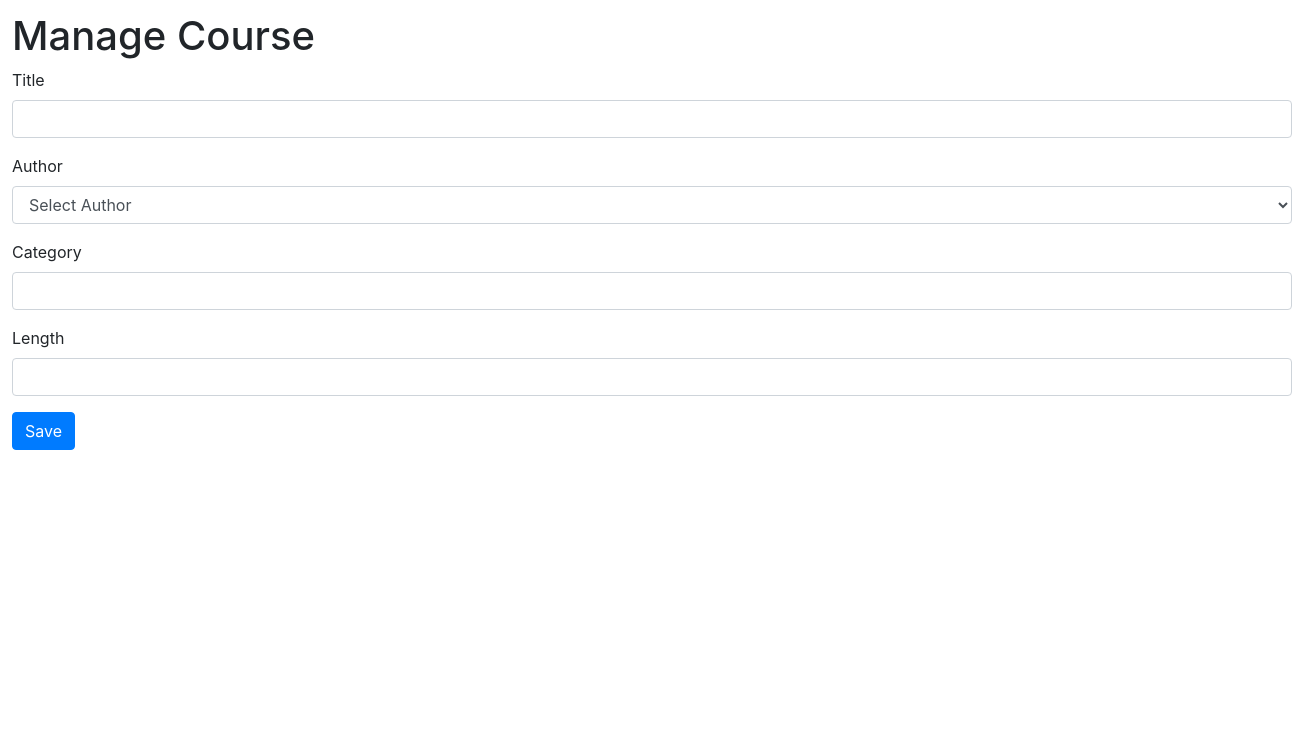
Test case: Manage Course Page › sets error message when trying to save empty title
Click the button "Save". click: (44, 431)
box: x1=12 y1=412 x2=75 y2=450
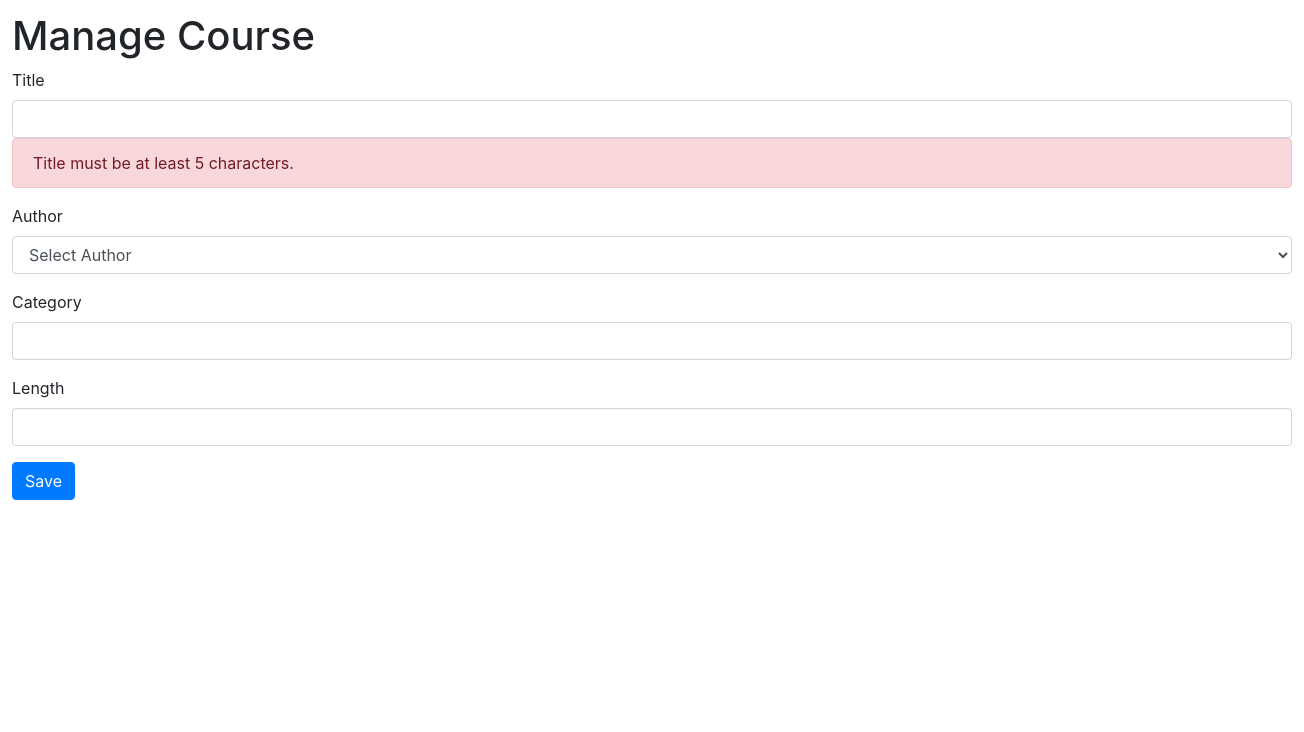
Expected: the text "Title must be at least 5 characters." is shown, x1=12 y1=138 x2=1292 y2=188
